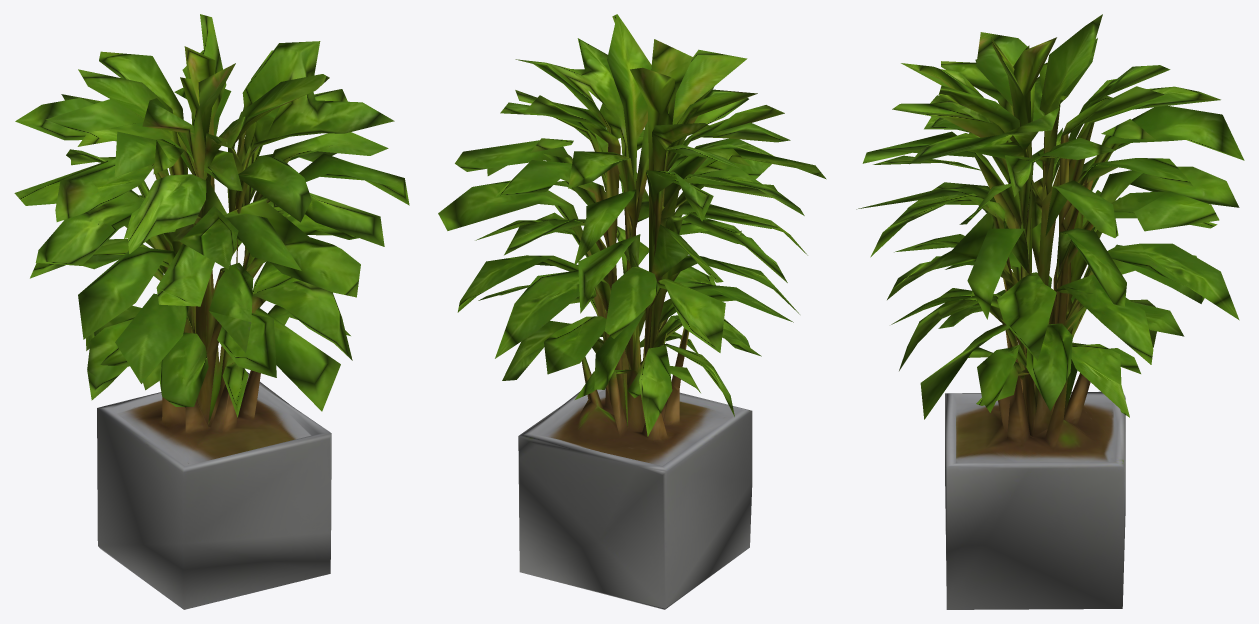
File: plant_dracaena.glb
3 renders of one model, left to right at view 1: azimuth 30°, elevation 25°; view 2: azimuth 150°, elevation 25°; view 3: azimuth 270°, elevation 25°, orthographic. The views are drawn at different scales.
Parts seen in each view (by area): view 1: tripo_node_7dc23459-099e-43a6-bbac-e849c128fc26; view 2: tripo_node_7dc23459-099e-43a6-bbac-e849c128fc26; view 3: tripo_node_7dc23459-099e-43a6-bbac-e849c128fc26.
Boxes of the visible parts, x1=… form: tripo_node_7dc23459-099e-43a6-bbac-e849c128fc26: x1=14, y1=14, x2=409, y2=609; tripo_node_7dc23459-099e-43a6-bbac-e849c128fc26: x1=438, y1=14, x2=826, y2=609; tripo_node_7dc23459-099e-43a6-bbac-e849c128fc26: x1=856, y1=14, x2=1244, y2=609.
Size of the model in its own units: 0.6904 by 1 by 0.6666.
1 material, 1 textured.
